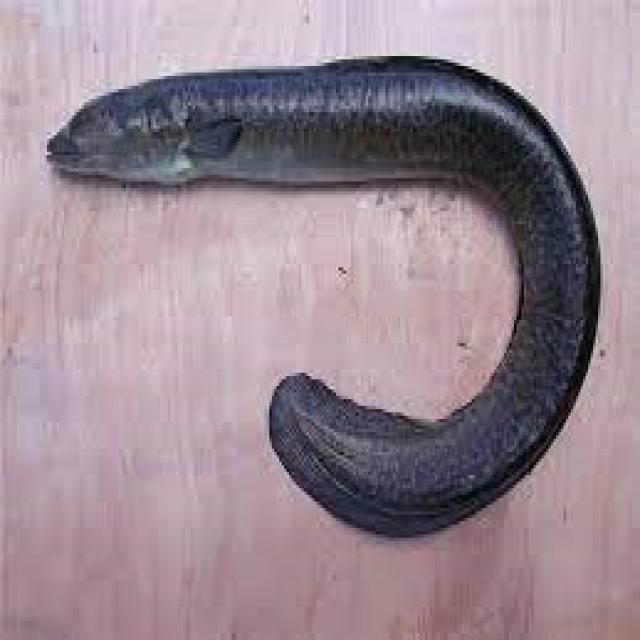Freshwater-Eel: (40, 57, 640, 542)
